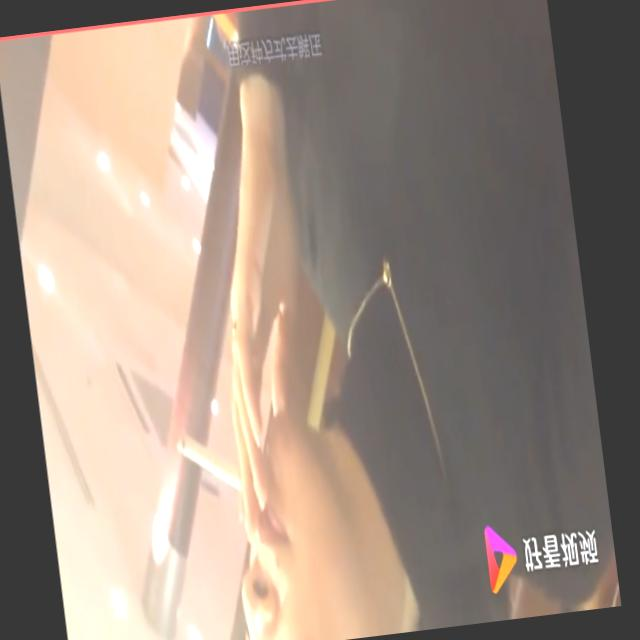cigarette: (170, 424, 245, 500)
